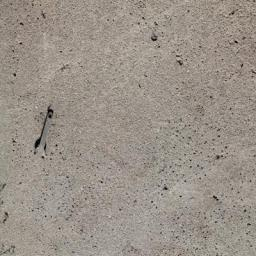FOD: (32, 105, 57, 166)
